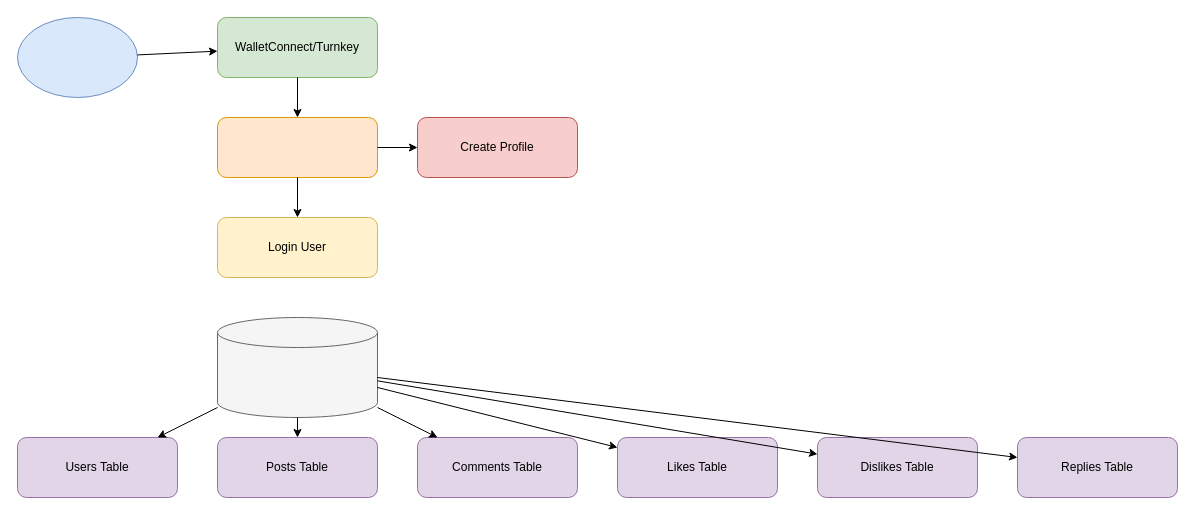
Some shapes in this 1195 by 515 pixel diagram are drawn without their labels. Here are the shapes that lost their labels. From the top down, the box of each, then its label:
(16, 16, 138, 98): User
(216, 116, 378, 178): Check Address in DB
(216, 316, 378, 418): PostgreSQL Database
